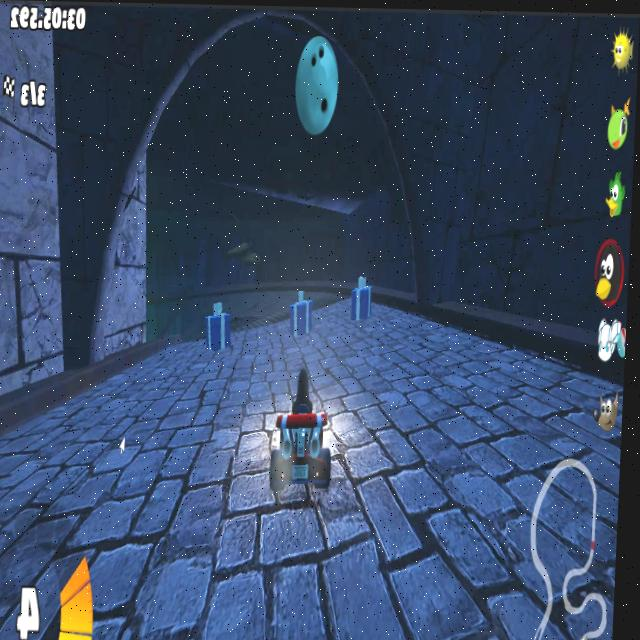bonus: (201, 298, 235, 359), (286, 285, 318, 344), (345, 269, 376, 328)
player_kart: (257, 366, 346, 522)
track: (0, 544, 616, 640), (89, 368, 260, 528), (342, 326, 465, 533), (457, 351, 566, 539), (560, 370, 624, 544), (21, 404, 95, 545), (239, 287, 282, 368), (318, 300, 342, 358)
